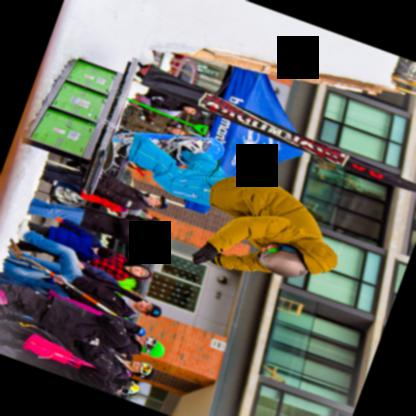handbag: (19, 333, 94, 367)
